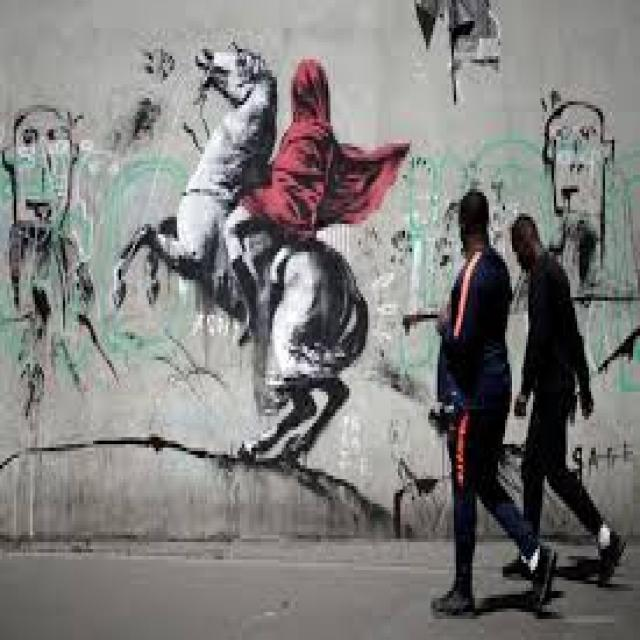-: (112, 41, 412, 482), (402, 144, 640, 406), (1, 152, 186, 370), (2, 104, 94, 428), (540, 83, 640, 289), (409, 0, 505, 108), (572, 434, 638, 496)
